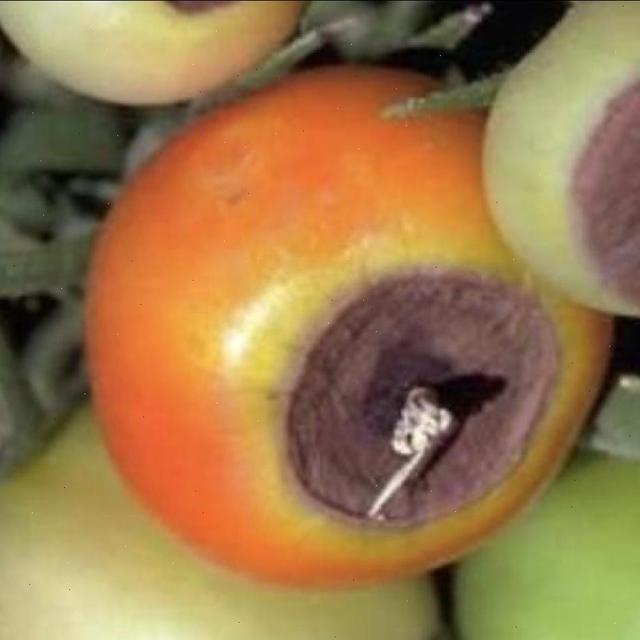Blossom End Rot Fruit: (48, 5, 402, 263)
